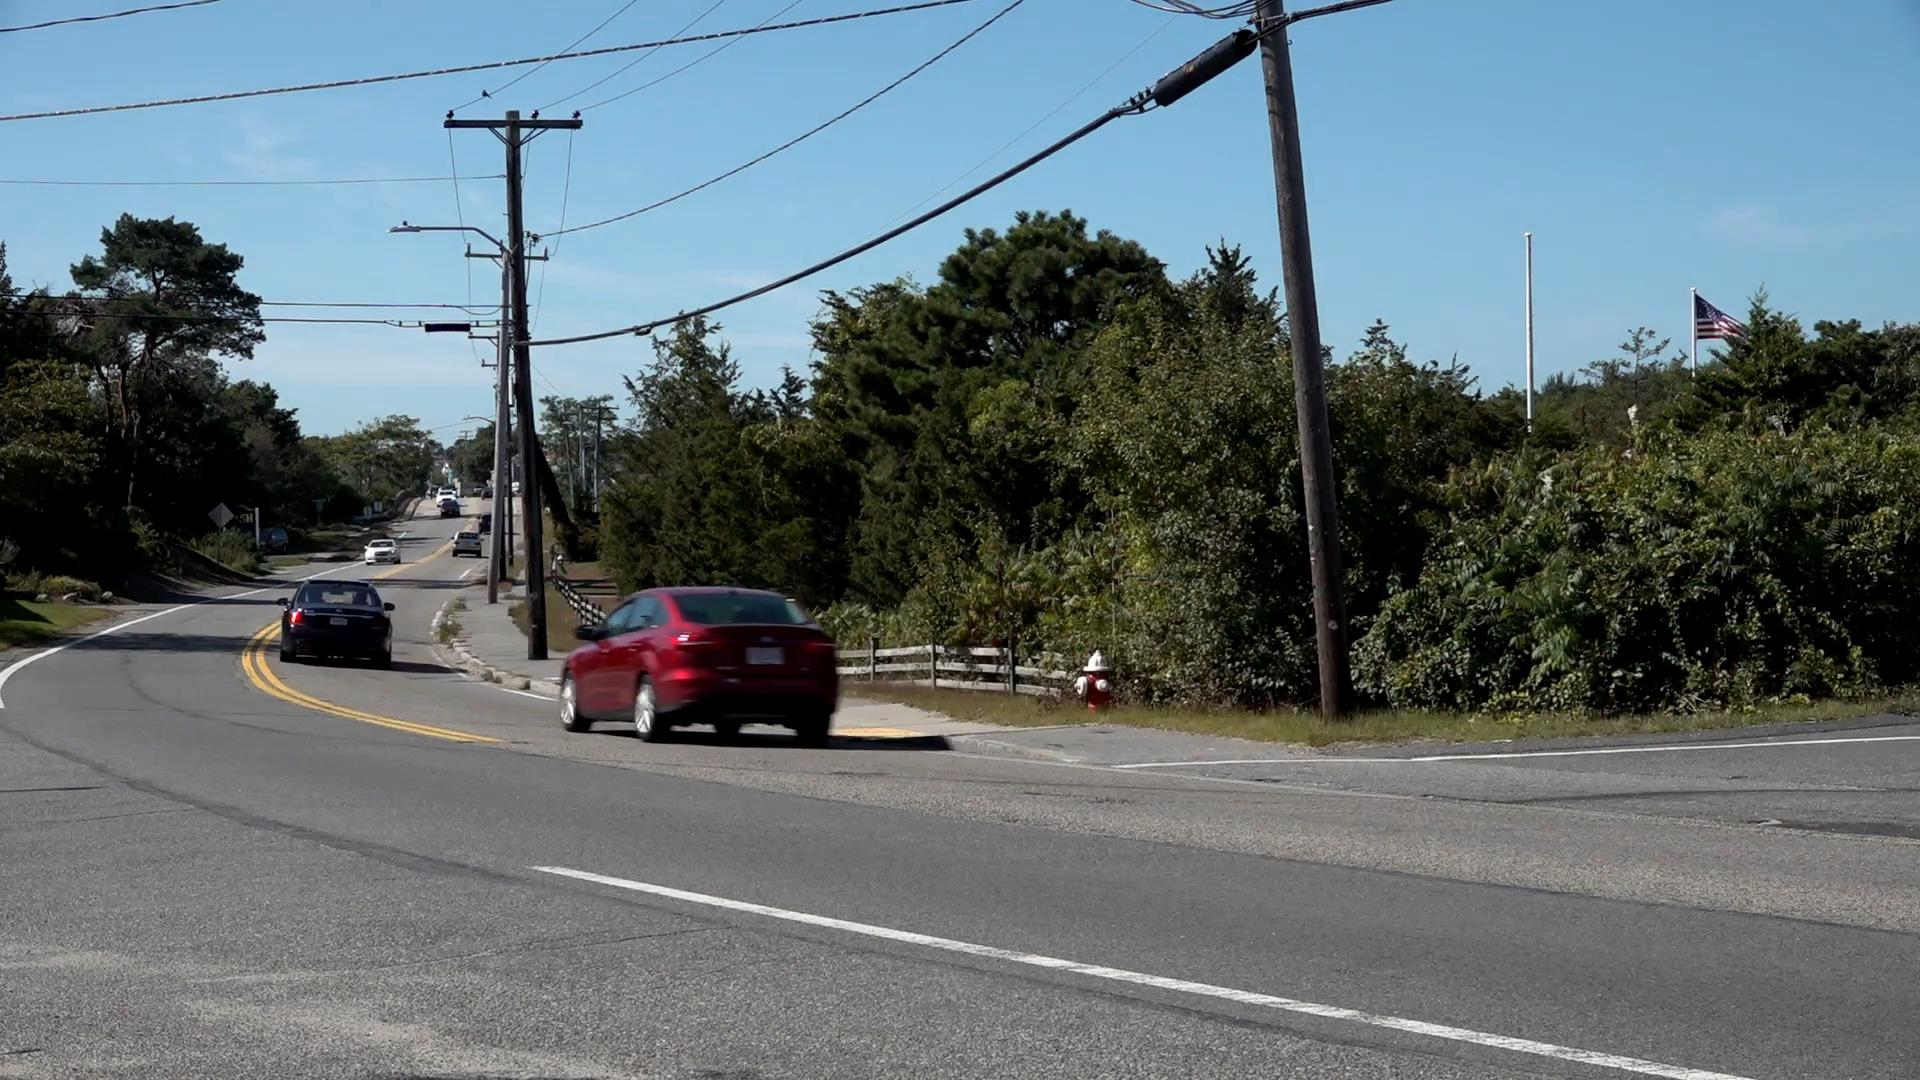sedans: (556, 591, 844, 750), (285, 580, 396, 667), (363, 538, 406, 564)
